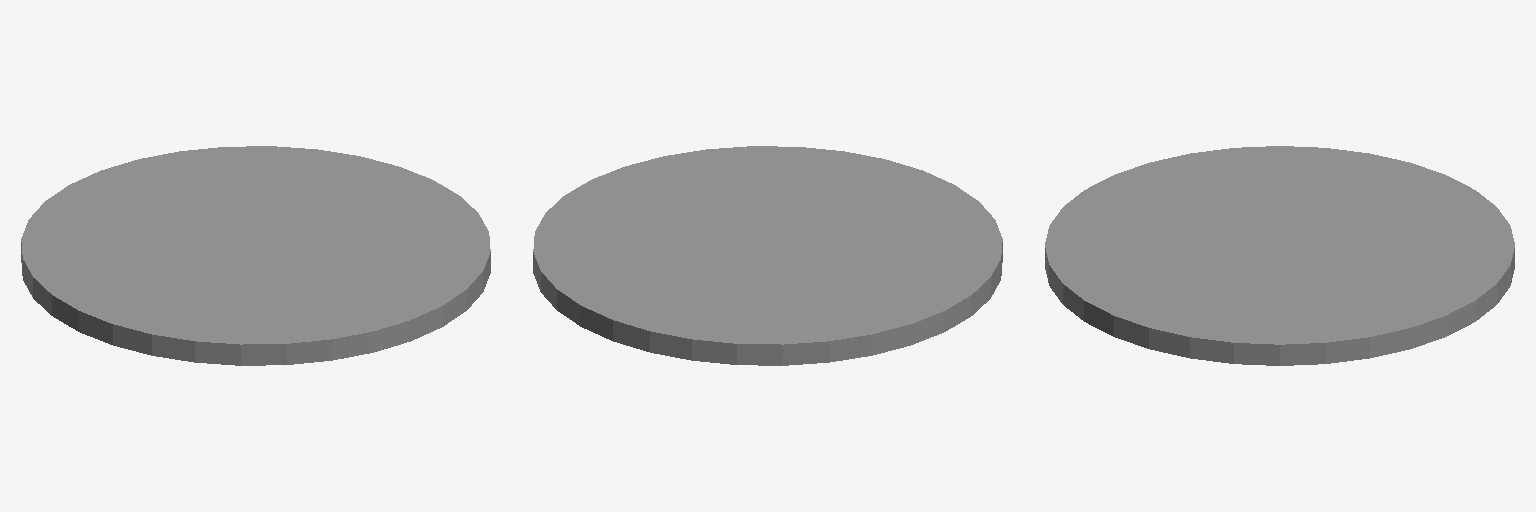
The model's file is aim-board-small.obj.
The picture shows the model from 3 angles: view 1: azimuth 30°, elevation 25°; view 2: azimuth 150°, elevation 25°; view 3: azimuth 270°, elevation 25°; orthographic projection.
Parts seen in each view (by area): view 1: Cylinder_Cylinder.001; view 2: Cylinder_Cylinder.001; view 3: Cylinder_Cylinder.001.
Boxes of the visible parts, box(x1,y1,x2,y2) form: Cylinder_Cylinder.001: box(21, 146, 490, 365); Cylinder_Cylinder.001: box(533, 146, 1002, 365); Cylinder_Cylinder.001: box(1045, 146, 1514, 365).
Size of the model in its own units: 2 by 0.1 by 2.